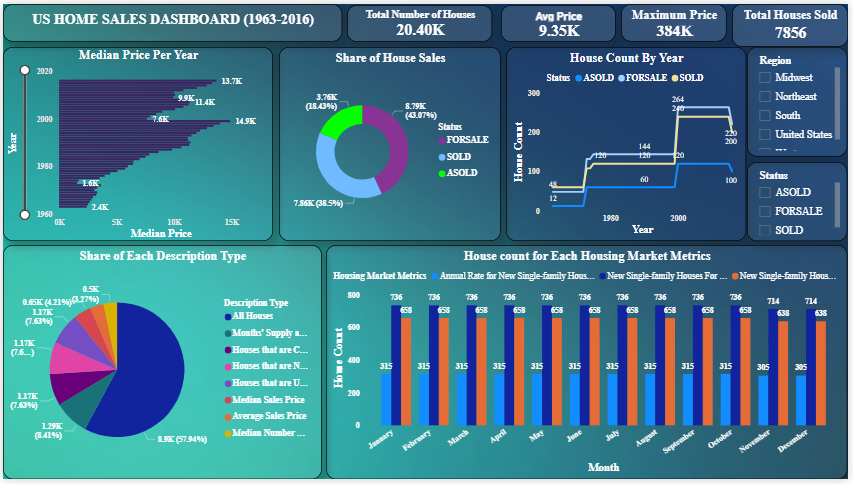

What the dashboard file says about the page in this screenshot:
{"tool":"powerbi","page":{"name":"Page 1","canvas":[1280,720],"ordinal":0},"visuals":[{"type":"lineChart","title":"House Count By Year","fields":{"Category":["Sheet1 (2).per_name.Variation.Date Hierarchy.Year"],"Y":["CountNonNull(Sheet1 (2).cat_code)"],"Series":["Sheet1 (2).cat_code"]},"box":[762.5,64.8,363.6,294.3],"z":0},{"type":"clusteredBarChart","title":"Median Price Per Year","fields":{"Category":["Sheet1 (2).per_name.Variation.Date Hierarchy.Year"],"Y":["Avg(Sheet1 (2).val)"]},"box":[0,64.8,409.1,294.3],"z":1000},{"type":"donutChart","title":"Share of House Sales","fields":{"Category":["Sheet1 (2).cat_code"],"Y":["CountNonNull(Sheet1 (2).cat_code)"]},"box":[418.2,64.8,336.4,294.3],"z":1001},{"type":"clusteredColumnChart","title":"House count for Each Housing Market Metrics","fields":{"Category":["Sheet1 (2).per_name.Variation.Date Hierarchy.Month"],"Y":["CountNonNull(Sheet1 (2).cat_desc)"],"Series":["Sheet1 (2).cat_desc"]},"box":[489.9,365.7,789.9,354.5],"z":1002},{"type":"pieChart","title":"Share of Each Description Type","fields":{"Category":["Sheet1 (2).dt_desc"],"Y":["CountNonNull(Sheet1 (2).dt_desc)"]},"box":[0,365.5,482.8,355.2],"z":1003},{"type":"slicer","fields":{"Values":["Sheet1 (2).cat_code"]},"box":[1127.3,238.6,152.3,120.5],"z":1004},{"type":"slicer","fields":{"Values":["Sheet1 (2).geo_desc"]},"box":[1127.3,64.8,152.3,165.9],"z":1005},{"type":"textbox","box":[0,0,513.6,56.8],"z":1006},{"type":"card","title":"Total Number of Houses","fields":{"Values":["CountNonNull(Sheet1 (2).per_idx)"]},"box":[521.6,1.1,220.5,55.7],"z":1007},{"type":"card","title":"Avg Price","fields":{"Values":["Avg(Sheet1 (2).val)"]},"box":[754.5,1.1,173.9,55.7],"z":1008},{"type":"card","title":"Maximum Price","fields":{"Values":["Max(Sheet1 (2).val)"]},"box":[936.4,0,160.2,56.8],"z":1010},{"type":"card","title":"Total Houses Sold","fields":{"Values":["Sum(Sheet1 (2).Column)"]},"box":[1104.5,0,175.8,65.2],"z":1011}]}

Visuals, with their boxes in screenshot pixels (x1, y1, x2, y2), scaled from the page's 1280x720 canvas onto the 853x484 screenshot:
"House Count By Year" lineChart: 508/44/750/241
"Median Price Per Year" clusteredBarChart: 0/44/273/241
"Share of House Sales" donutChart: 279/44/503/241
"House count for Each Housing Market Metrics" clusteredColumnChart: 326/246/852/483
"Share of Each Description Type" pieChart: 0/246/322/483
slicer - Sheet1 (2).cat_code: 751/160/852/241
slicer - Sheet1 (2).geo_desc: 751/44/852/155
textbox: 0/0/342/38
"Total Number of Houses" card: 348/1/495/38
"Avg Price" card: 503/1/619/38
"Maximum Price" card: 624/0/731/38
"Total Houses Sold" card: 736/0/852/44
